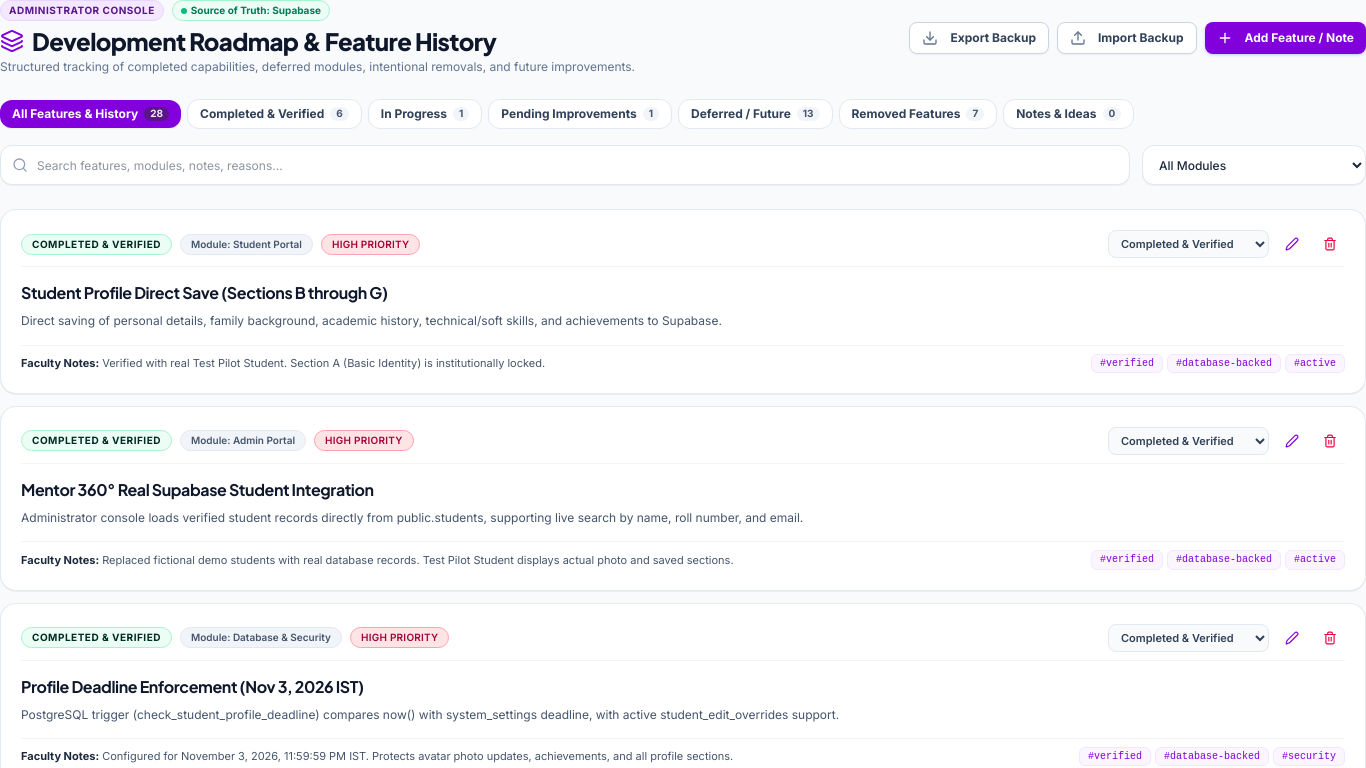
Test: Mentor Connect — Development Roadmap & Supabase Persistence › 8. renders the DevelopmentRoadmap UI with action buttons, status badge, and modals
Expected: the heading "Development Roadmap & Feature History" is shown, [0,26,496,56]
Expected: the text "Administrator Console" is shown, [0,0,164,21]
// Open Add Feature Modal
Click the button "Add Feature / Note" at {"x": 1285, "y": 38}, box [1204,22,1365,54]
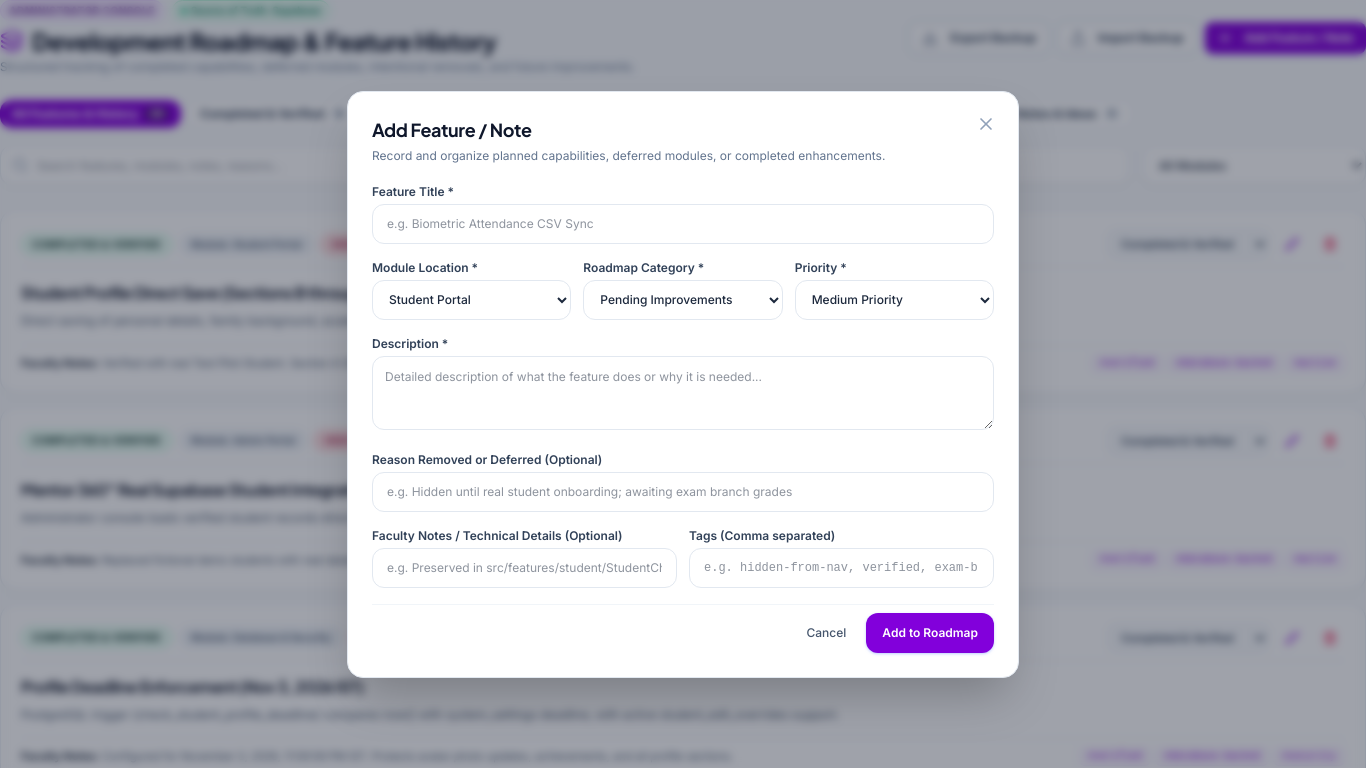
Result: the dialog is shown at [347,90,1019,678]
